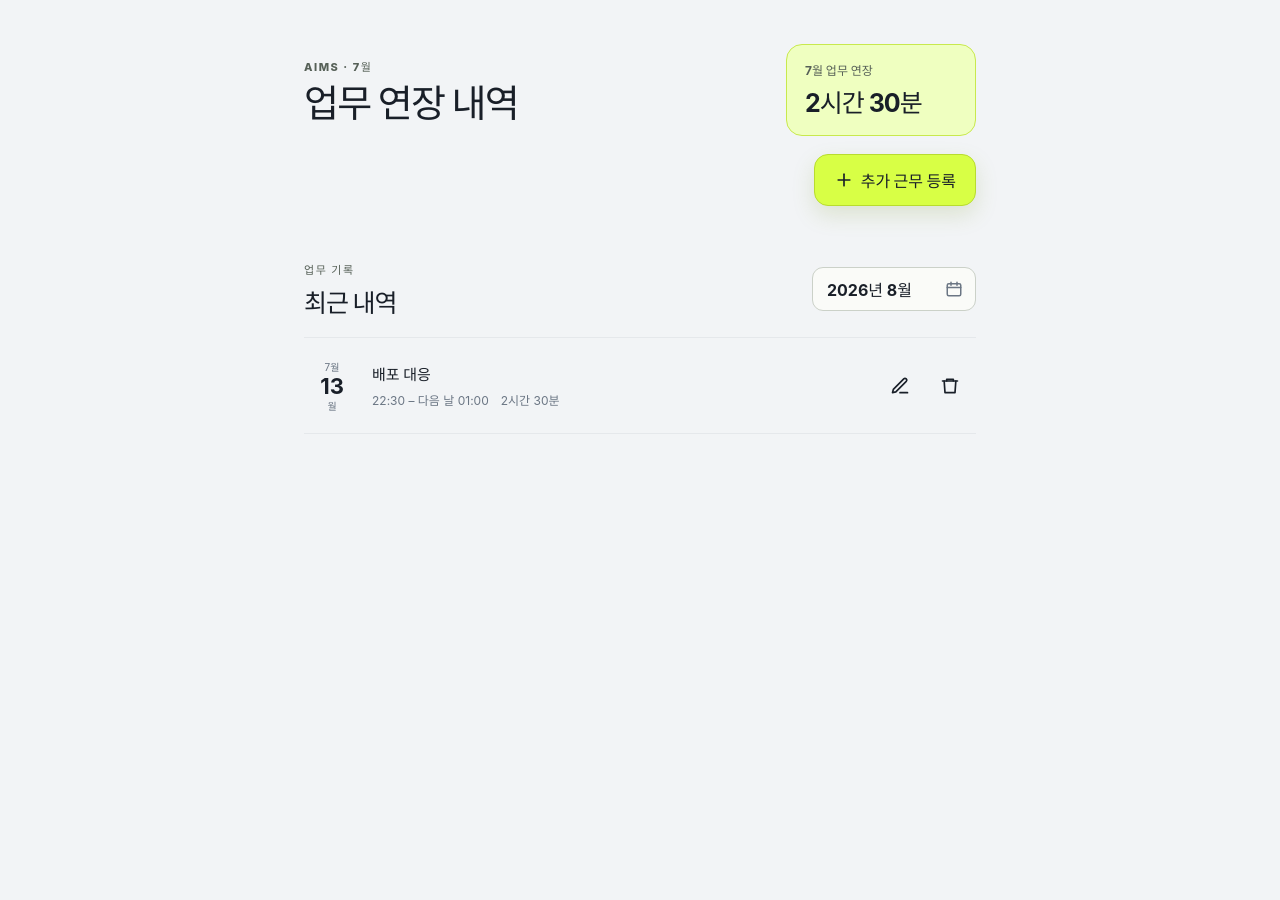
Test: OvertimePage › cancels deletion without sending a delete request
What coordinates should you click on to do the following:
click the button named "배포 대응 내역 삭제"
I would click on:
 (950, 386)
Its box is [928, 364, 972, 408].
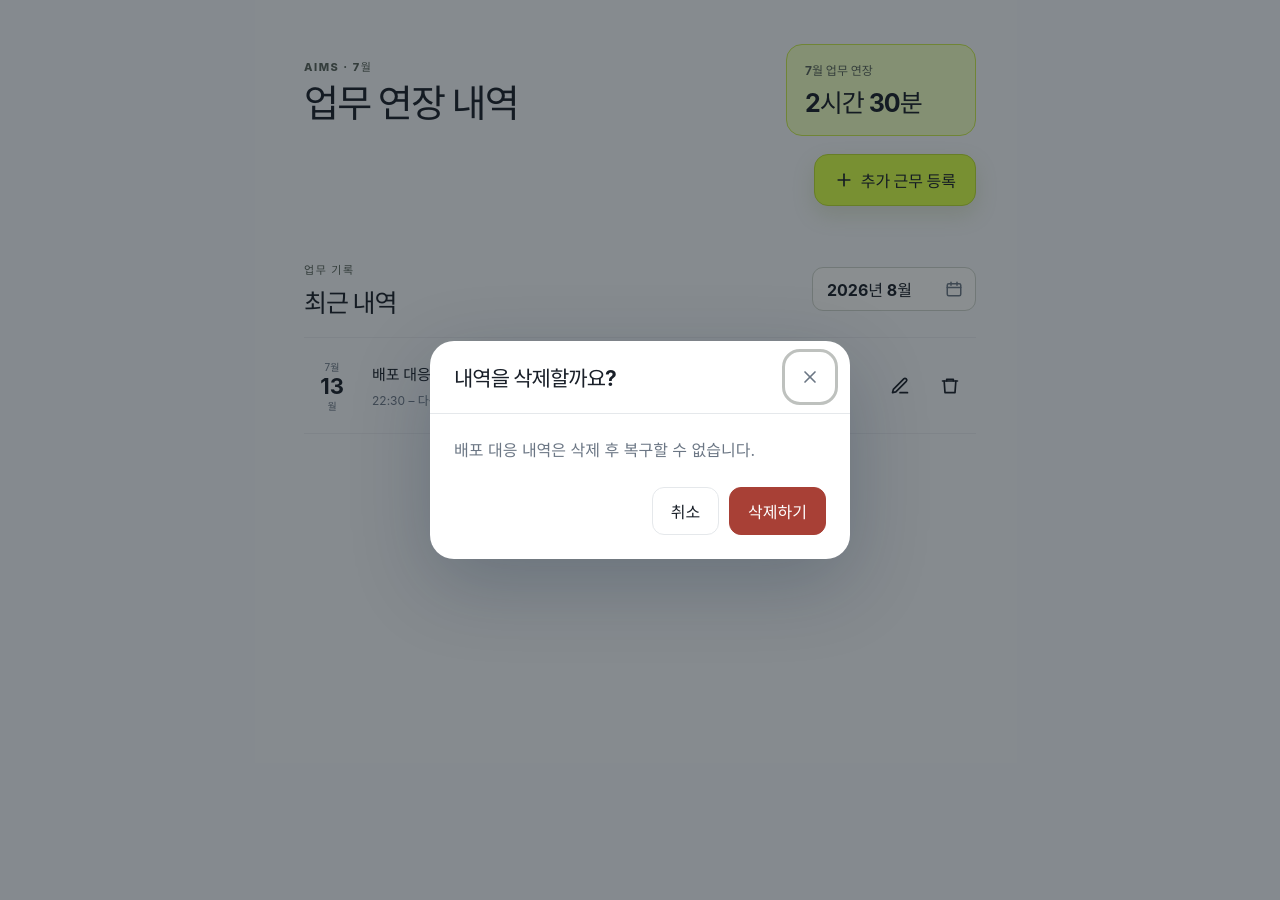
What coordinates should you click on to do the following:
click the button "취소"
I would click on:
 (685, 511)
Its box is [652, 487, 719, 535].
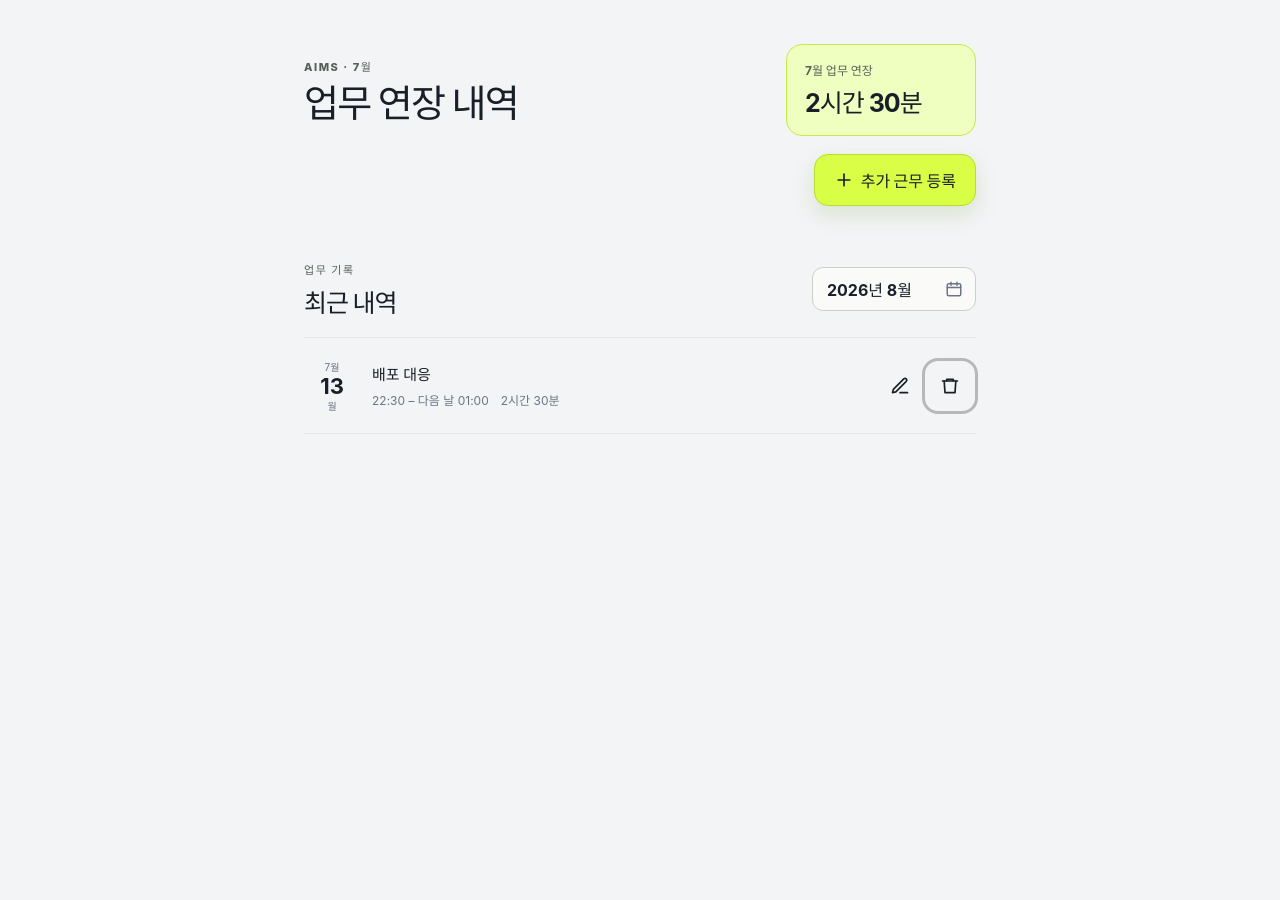
Now the heading "내역을 삭제할까요?" is gone
